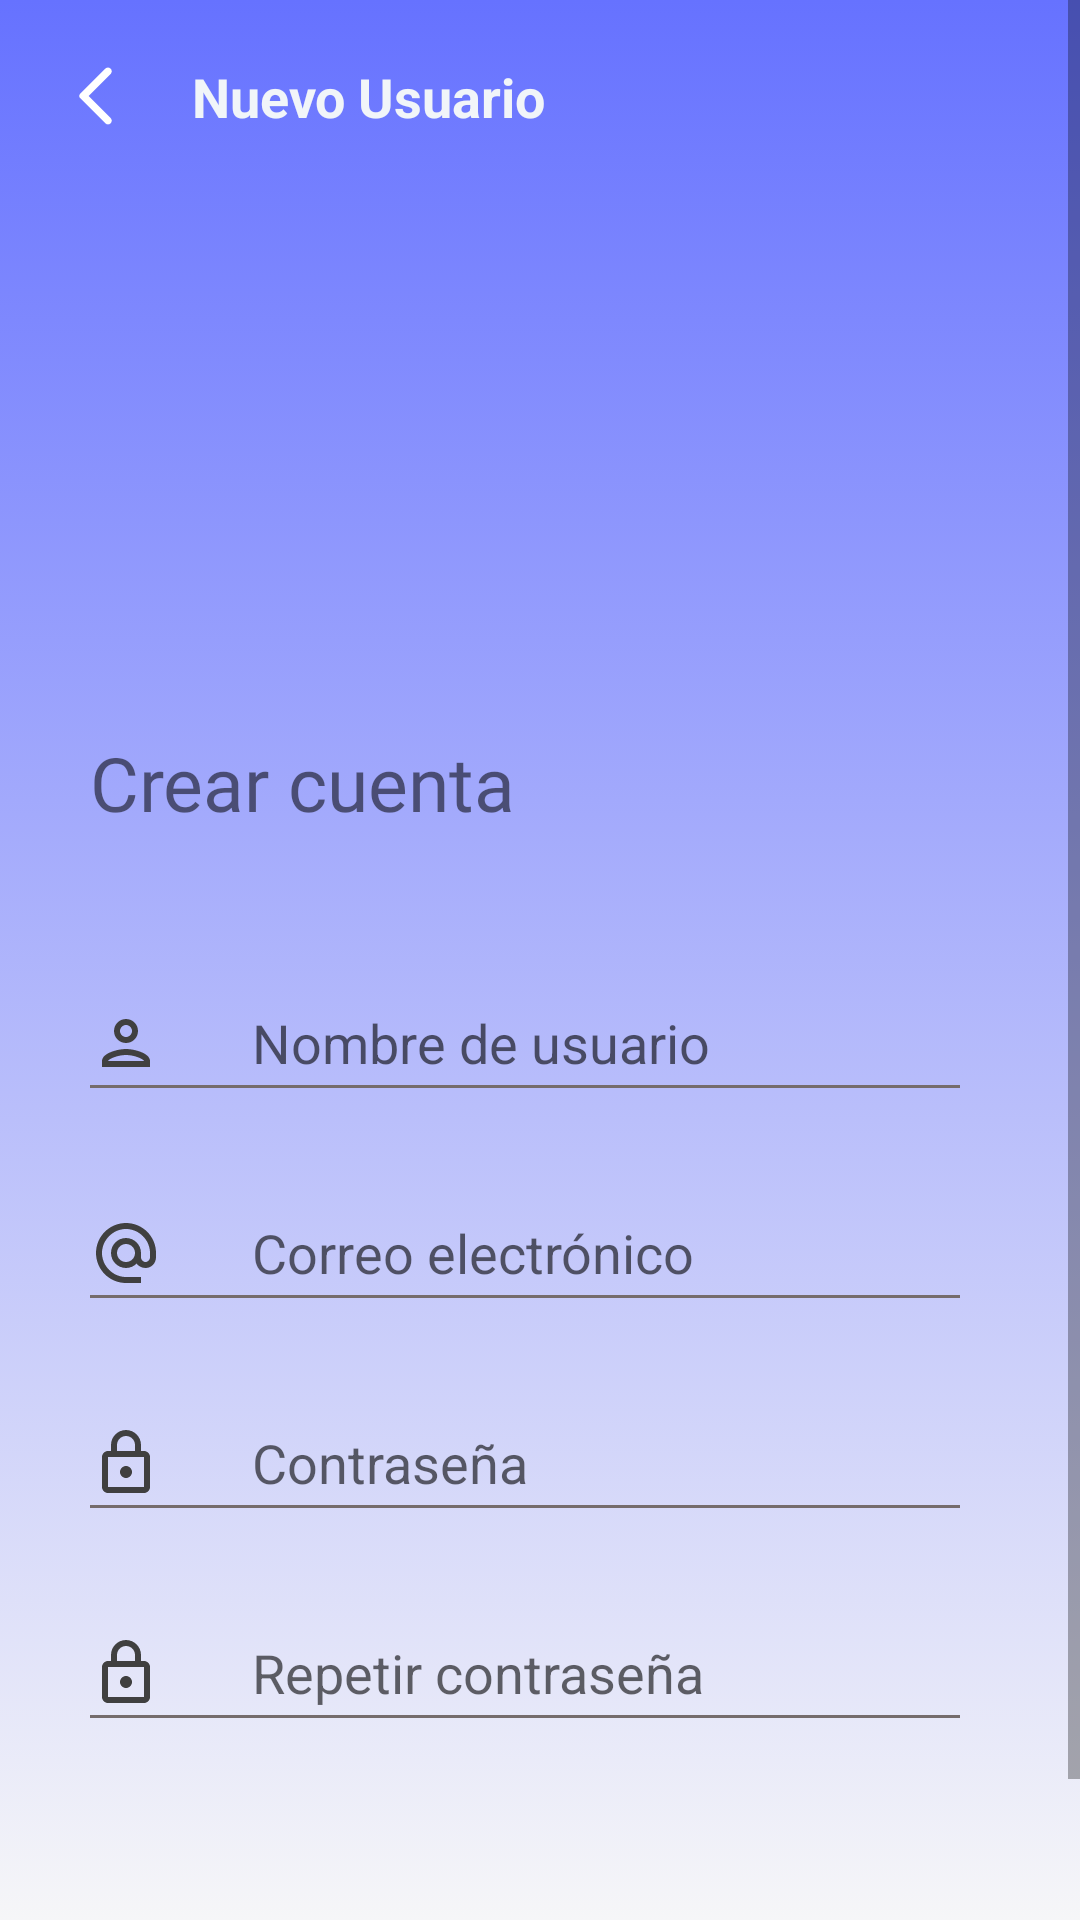

Icon bounding boxes for this 1080 x 1920 phone screenshot, format rect(x1, y1, x2, y2):
arrow back: rect(79, 67, 112, 125)
